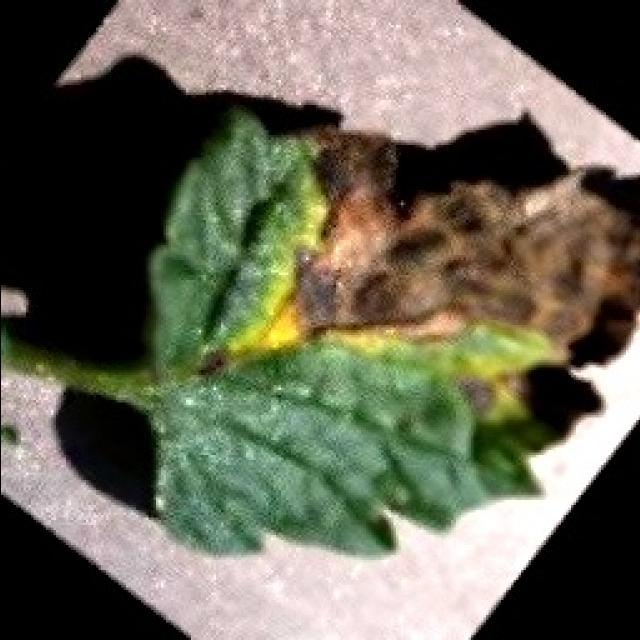leaves: (0, 102, 640, 566)
